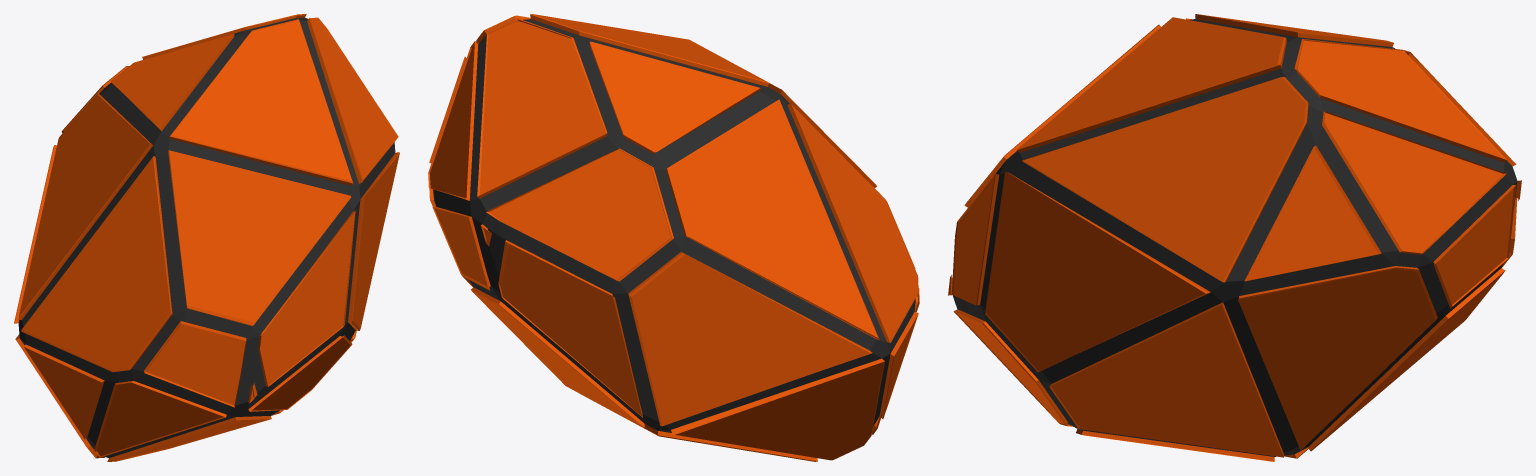
File: firestone1.fbx
3 views of the same model, side by side, from view 1: azimuth 30°, elevation 25°; view 2: azimuth 150°, elevation 25°; view 3: azimuth 270°, elevation 25° (orthographic). The views are drawn at different scales.
Visible parts, largest first — view 1: Cube.667; view 2: Cube.667; view 3: Cube.667.
Part boxes in pixels (x1,y1,x2,y2): Cube.667: [14, 14, 399, 461]; Cube.667: [428, 14, 919, 461]; Cube.667: [948, 14, 1521, 461].
Size of the model in its own units: 660 by 605 by 641.
